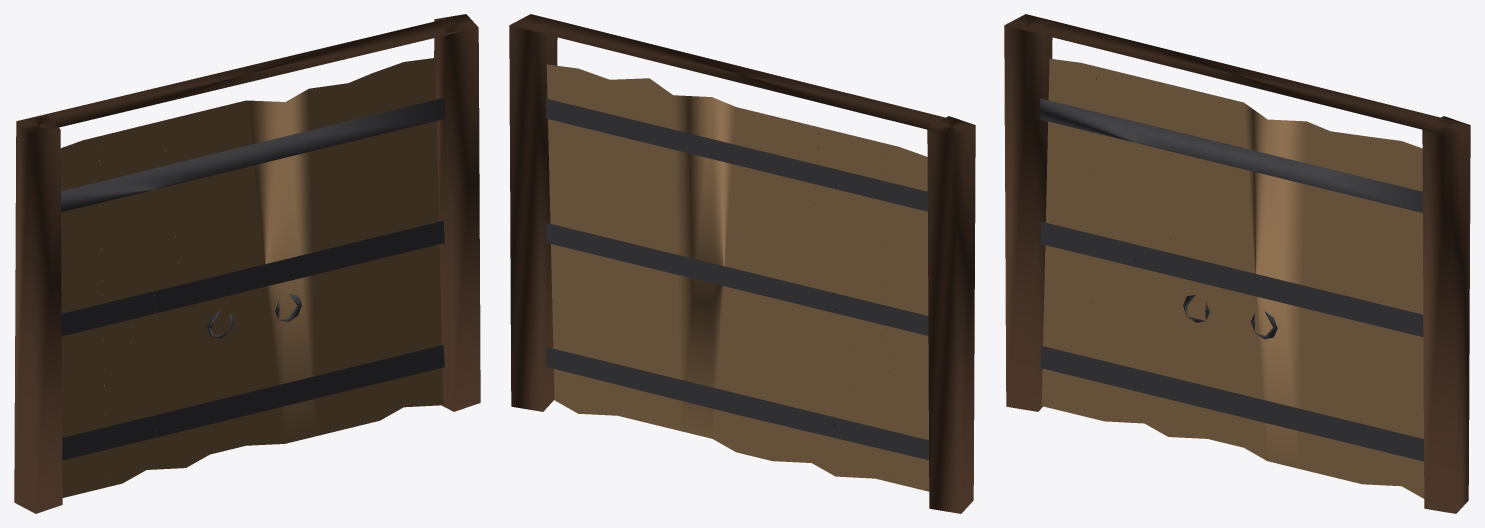
Rendered from gate_wood_double_lod1.glb.
3 renders of one model, left to right at view 1: azimuth 30°, elevation 25°; view 2: azimuth 150°, elevation 25°; view 3: azimuth 330°, elevation 25°, orthographic.
Bounding box in the file's own units: 4 × 3.2 × 0.3.
